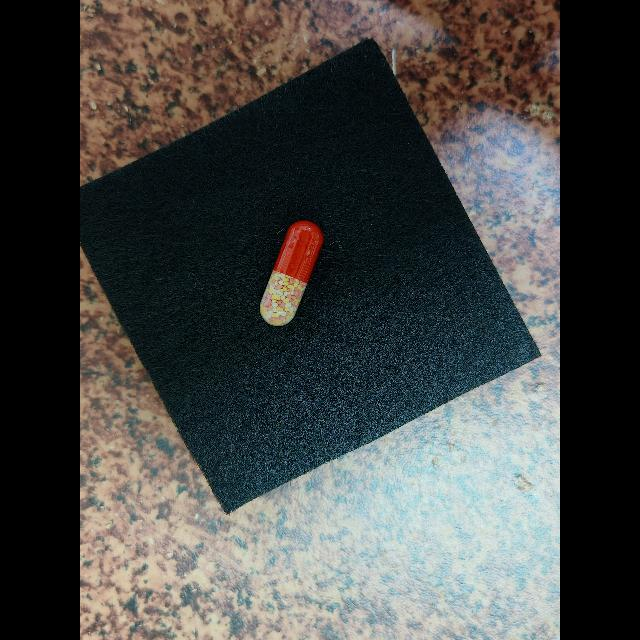Intact Capsule: (260, 221, 323, 326)
